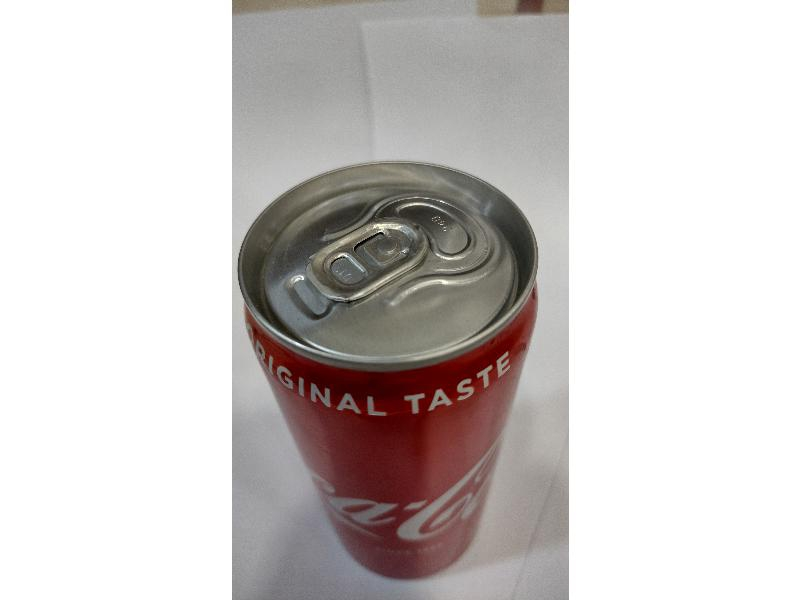can: (235, 158, 543, 585)
